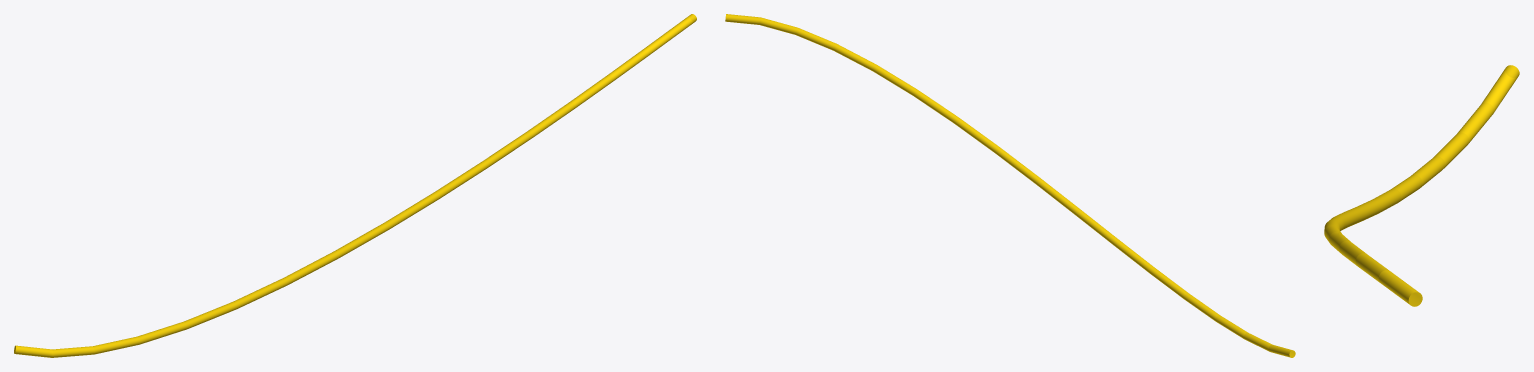
File: Event_421115418_track_190.fbx
3 renders of one model, left to right at view 1: azimuth 30°, elevation 25°; view 2: azimuth 150°, elevation 25°; view 3: azimuth 270°, elevation 25°, orthographic. The views are drawn at different scales.
Parts seen in each view (by area): view 1: Model; view 2: Model; view 3: Model.
Boxes of the visible parts, left/top/right/bottom form: Model: left=14, top=14, right=696, bottom=357; Model: left=725, top=14, right=1295, bottom=357; Model: left=1324, top=65, right=1519, bottom=306.
Size of the model in its own units: 3.53 by 1.06 by 0.5035.
